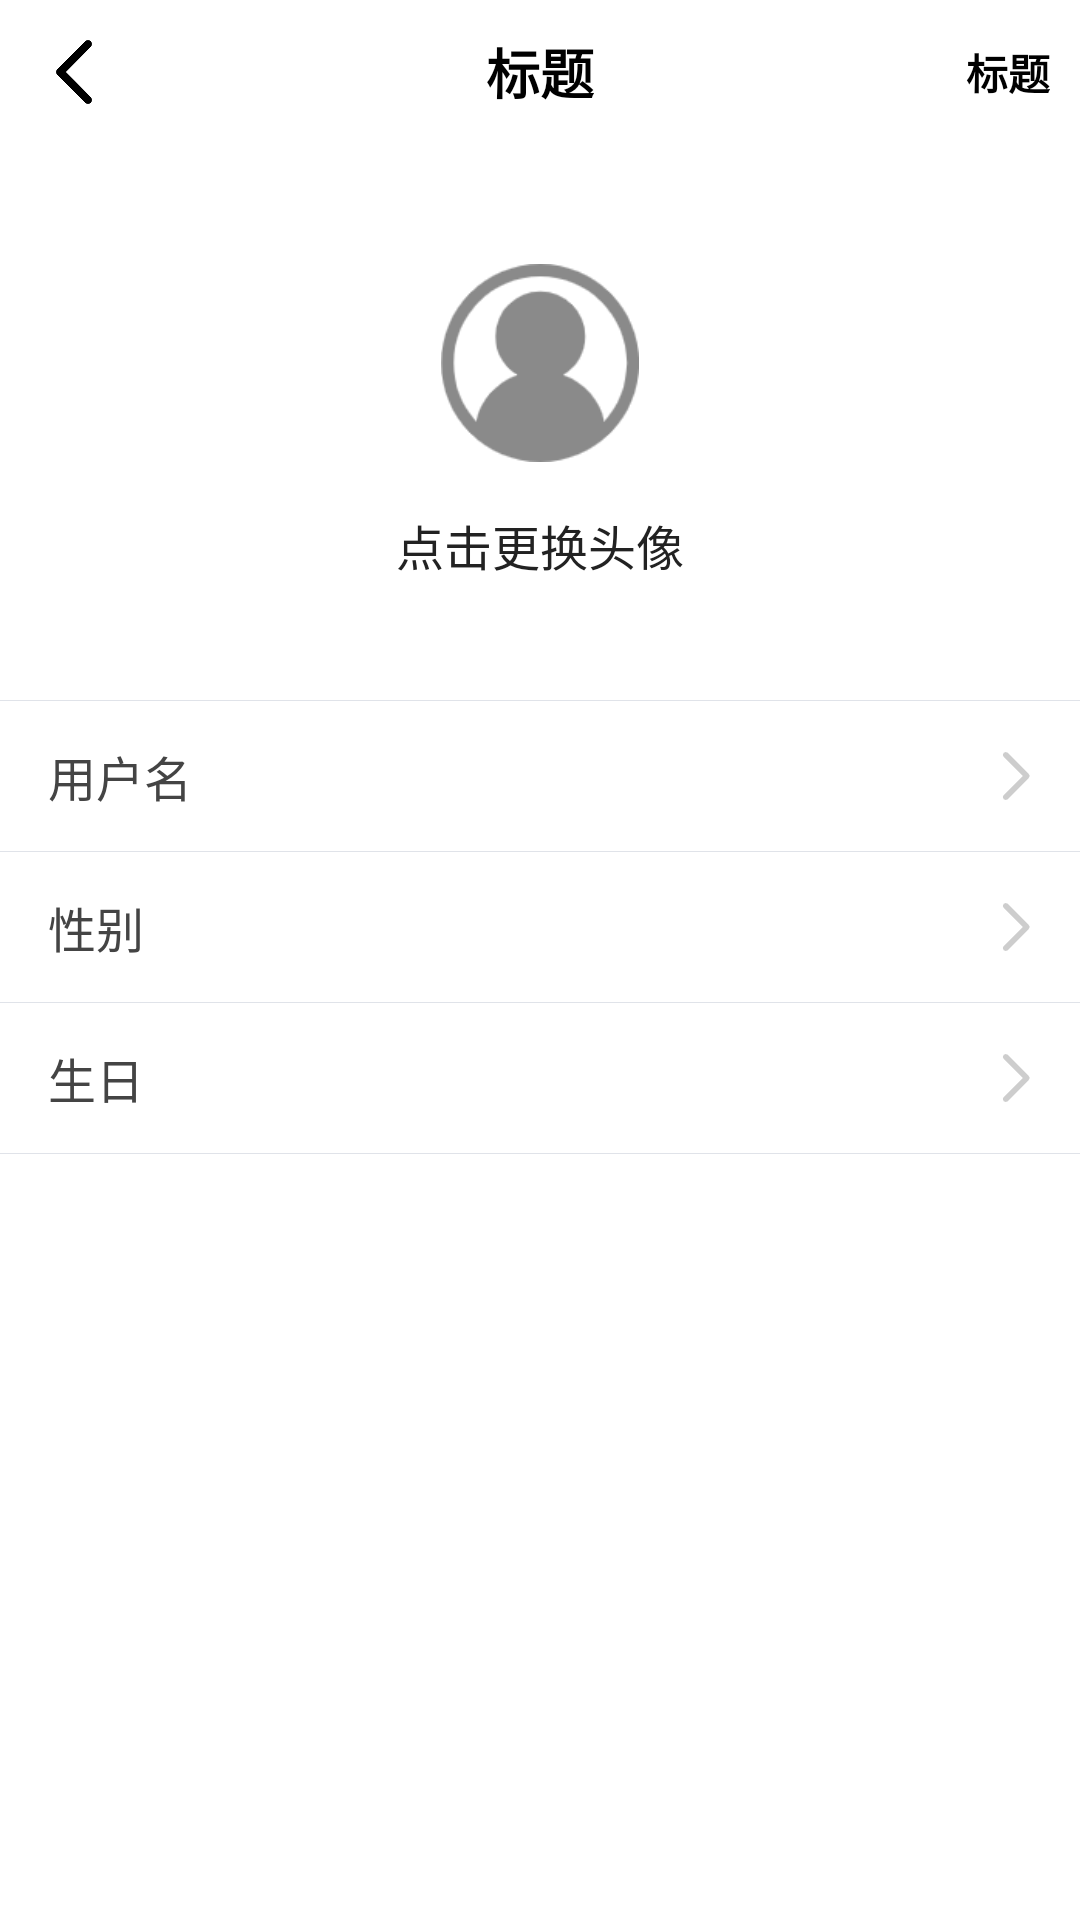

Screen size 1080x1920. Icon name, then its box in pixels as bbox=(x1, y1, x2, y2):
back: bbox=(56, 40, 92, 104)
head: bbox=(441, 264, 639, 462)
